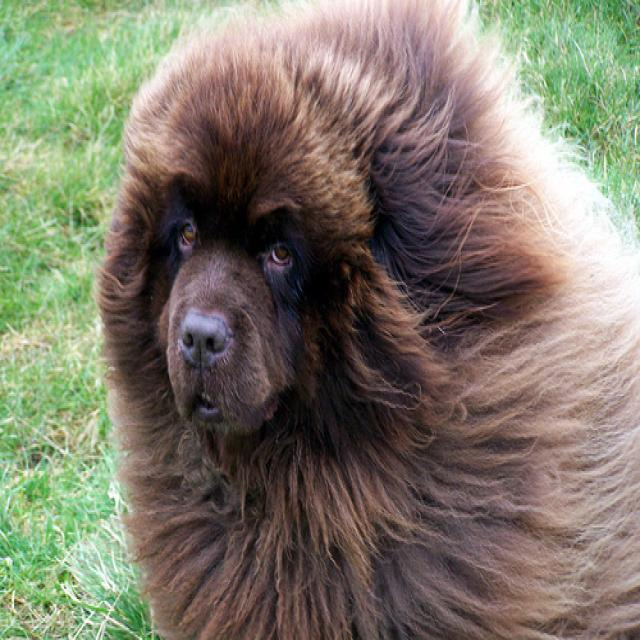dog: (102, 66, 378, 434)
